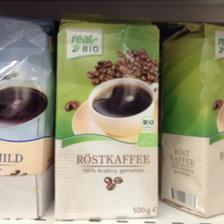Kaffee: (54, 11, 158, 217), (159, 23, 223, 216), (0, 14, 52, 170)
